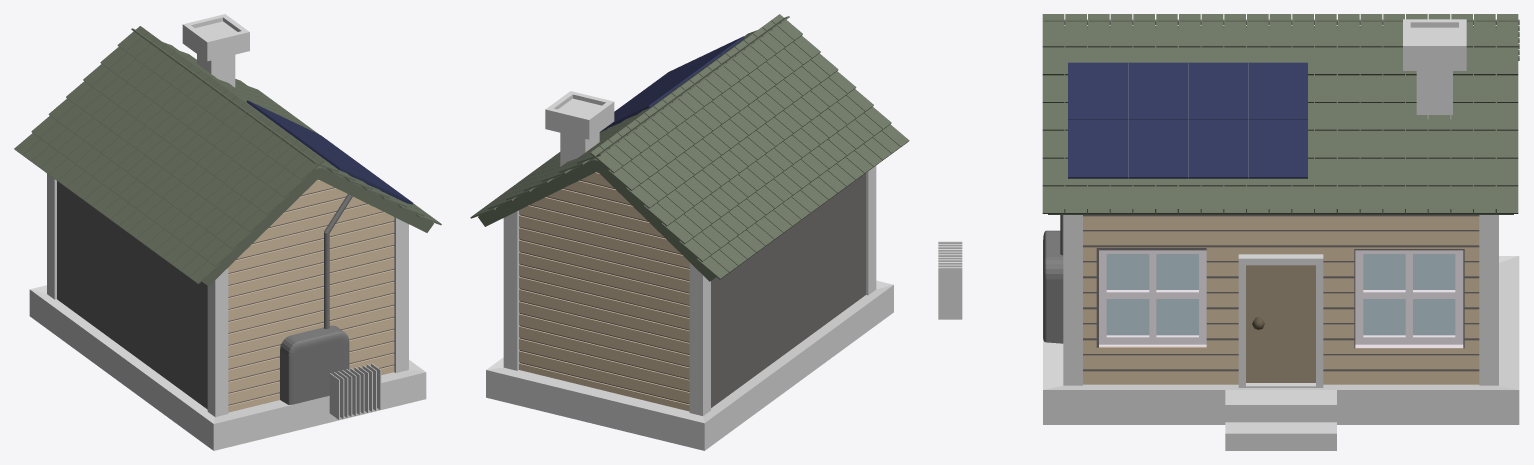
Rendered from house.fbx.
3 renders of one model, left to right at view 1: azimuth 30°, elevation 25°; view 2: azimuth 150°, elevation 25°; view 3: azimuth 270°, elevation 25°, orthographic. The views are drawn at different scales.
Parts seen in each view (by area): view 1: Plane.001, paneling, walls, foundation, structure, Cube, chimney, Plane, roof, Circle, Plane.002; view 2: Plane.001, paneling, walls, foundation, structure, chimney, Plane, roof, Plane.002; view 3: Plane, Plane.006, Plane.002, foundation, window.001, window, door, walls, structure, chimney, roof, door.001 (+3 smaller).
Part boxes in pixels (<box>): Plane.001: <box>14,26,324,283</box>; paneling: <box>228,179,394,412</box>; walls: <box>57,179,393,409</box>; foundation: <box>29,285,426,450</box>; structure: <box>47,173,408,417</box>; Cube: <box>279,325,349,404</box>; chimney: <box>182,14,249,87</box>; Plane: <box>131,28,441,225</box>; roof: <box>202,165,433,286</box>; Circle: <box>329,363,381,419</box>; Plane.002: <box>246,100,412,204</box>; Plane.001: <box>590,14,909,279</box>; paneling: <box>519,171,689,411</box>; walls: <box>519,172,865,407</box>; foundation: <box>486,280,893,450</box>; structure: <box>503,165,876,415</box>; chimney: <box>545,91,614,166</box>; Plane: <box>470,16,789,218</box>; roof: <box>478,158,715,281</box>; Plane.002: <box>599,36,744,132</box>; Plane: <box>1042,14,1518,213</box>; Plane.006: <box>1083,216,1479,384</box>; Plane.002: <box>1068,62,1307,178</box>; foundation: <box>1043,256,1519,450</box>; window.001: <box>1106,254,1455,335</box>; window: <box>1099,250,1463,347</box>; door: <box>1246,265,1315,382</box>; walls: <box>1083,215,1479,371</box>; structure: <box>1063,215,1498,385</box>; chimney: <box>1403,19,1466,119</box>; roof: <box>1048,26,1513,214</box>; door.001: <box>1238,254,1323,387</box>.
Bounding box in the file's own units: 570 × 555 × 823.
